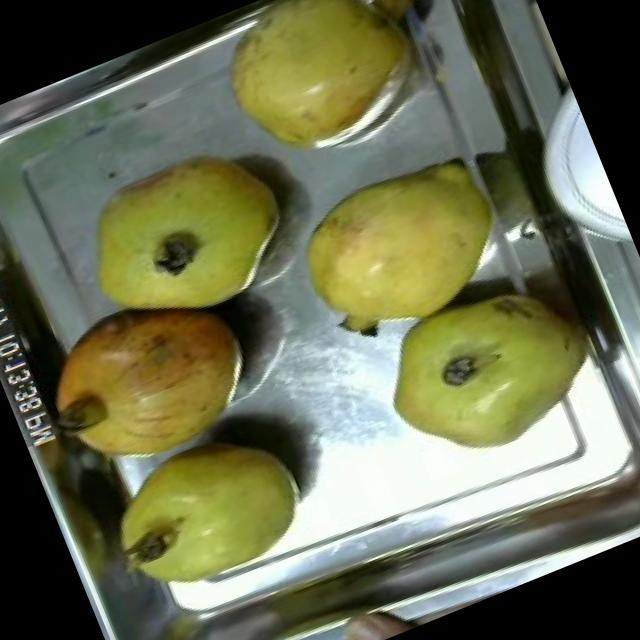fruit: (260, 122, 550, 374), (12, 260, 278, 504), (56, 116, 320, 354), (354, 258, 614, 487), (77, 405, 336, 626), (184, 0, 467, 194)
